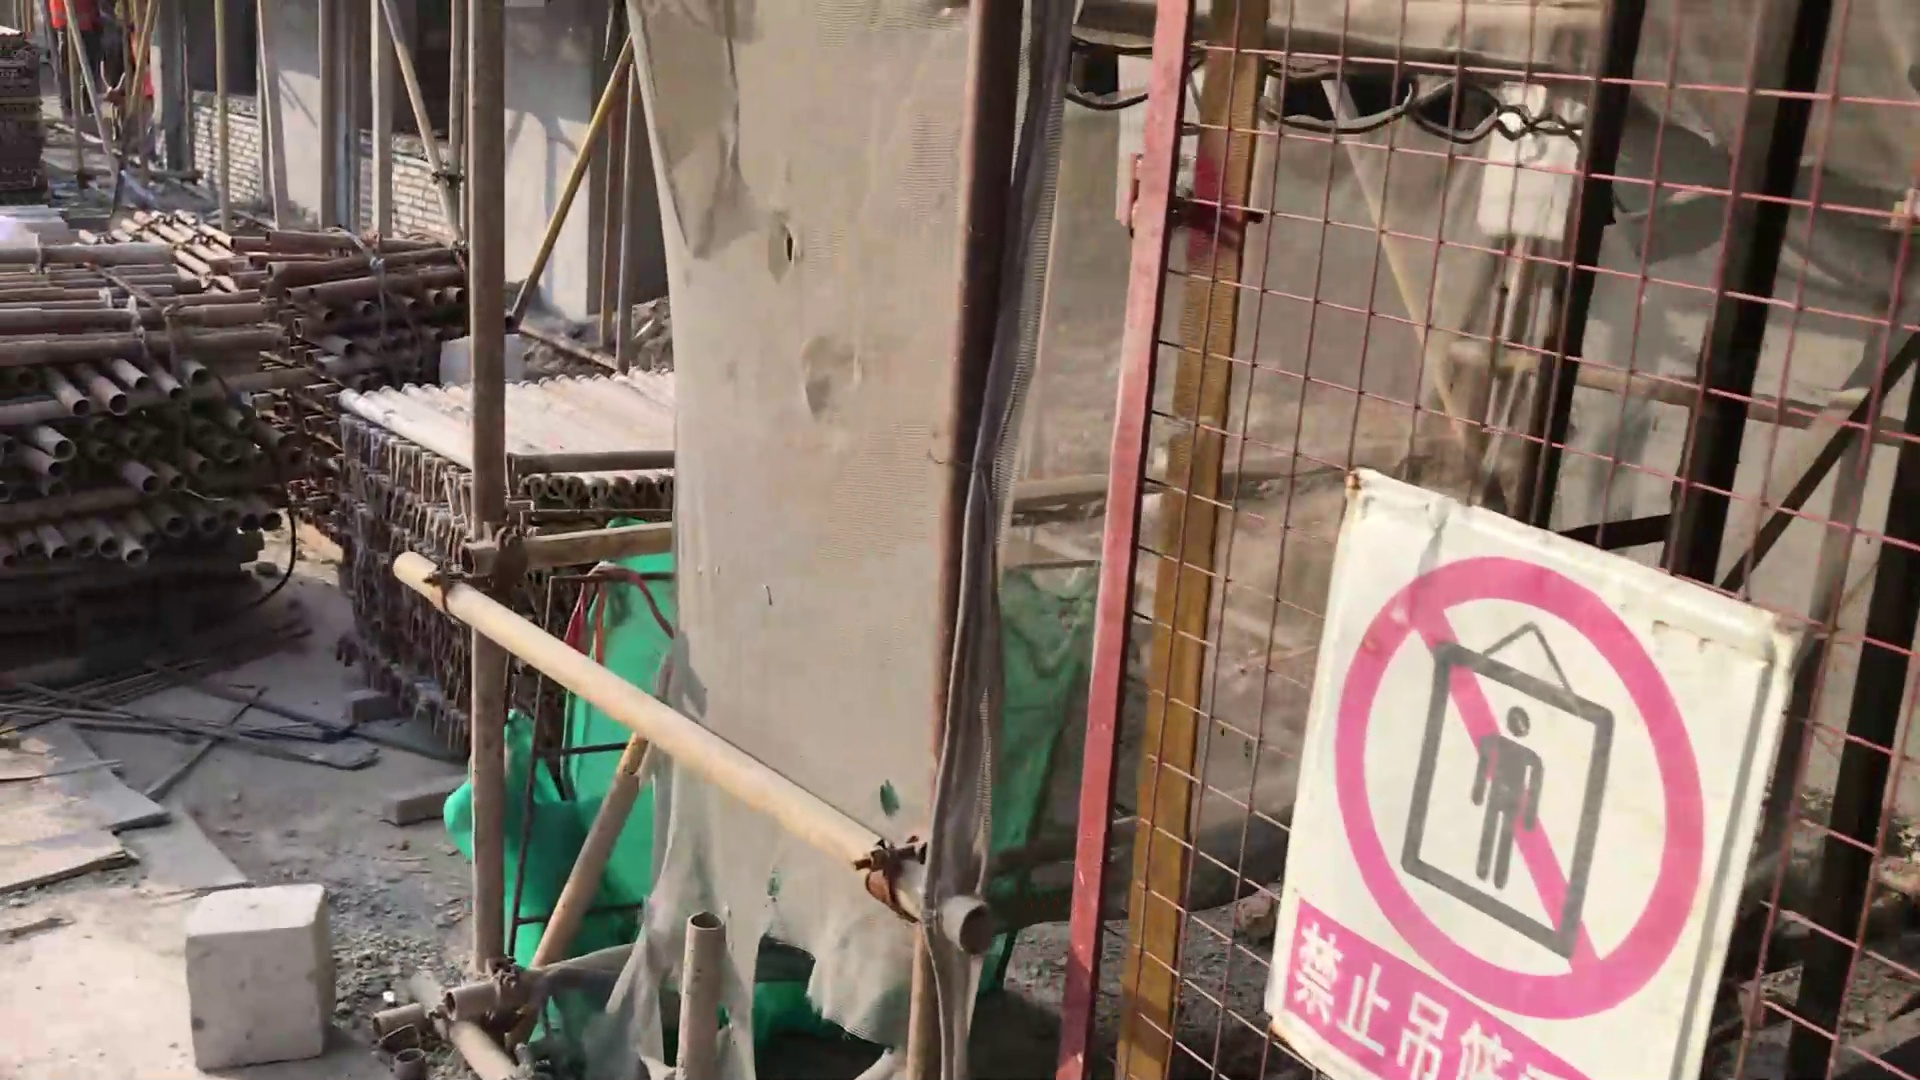scaffold: (1, 203, 680, 756)
slogan: (1269, 487, 1789, 1079)
